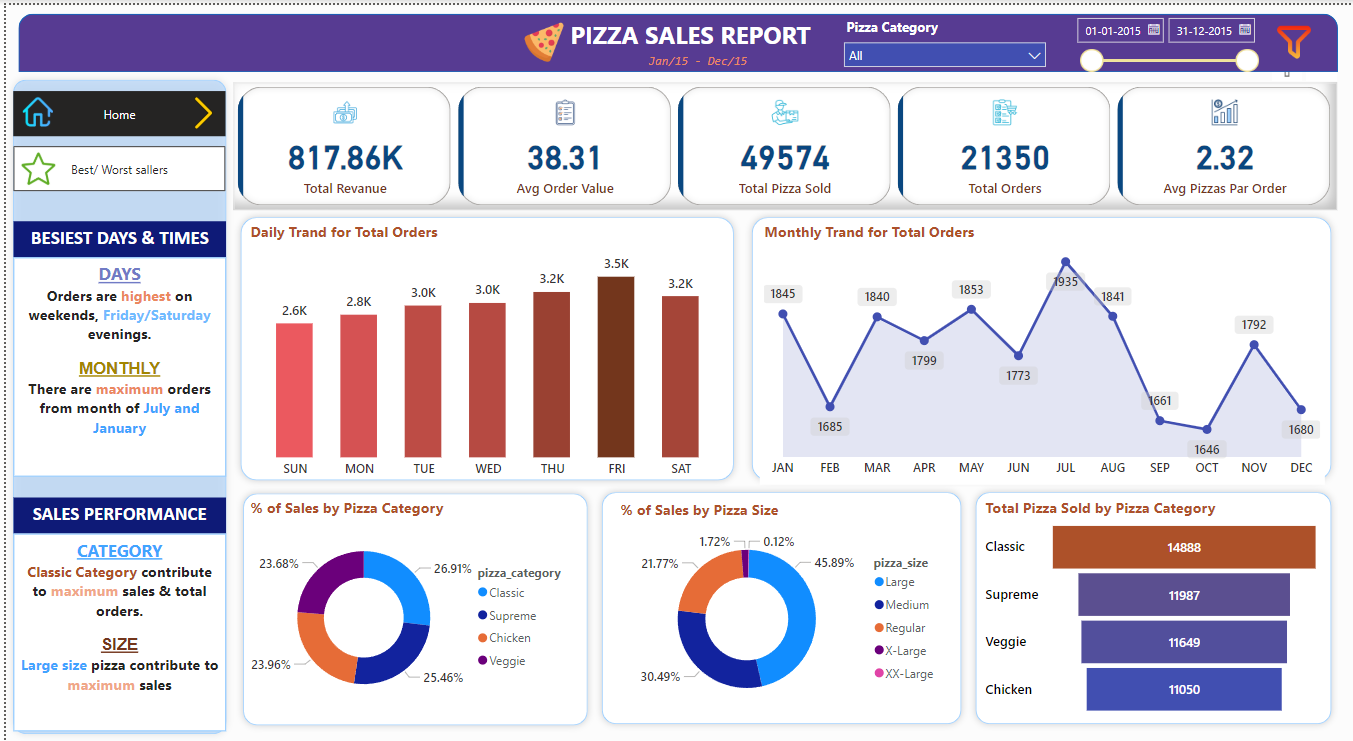

Layout of this report page (visuals, bound fields, positions):
{"tool":"powerbi","page":{"name":"Home","canvas":[1500,820],"ordinal":0},"visuals":[{"type":"shape","box":[0,75.2,253.5,745.1],"z":0},{"type":"cardVisual","fields":{"Data":["public pizzasales.Total Revanue","public pizzasales.Avg Order Value","public pizzasales.Total Pizza Sold","public pizzasales.Total Orders","public pizzasales.Avg Pizzas Par Order"]},"box":[253.5,86.3,1229.7,142.1],"z":1000},{"type":"shape","box":[13.8,10,1470,65],"z":2000},{"type":"textbox","box":[610,9.7,305,55.7],"z":3000},{"type":"textbox","box":[701.9,47.4,137.9,27.9],"z":4000},{"type":"image","box":[559.9,13.9,79.4,55.7],"z":5000},{"type":"shape","box":[253.5,228.4,565.4,309.2],"z":6000},{"type":"columnChart","title":"Daily Trand for Total Orders","fields":{"Category":["public pizzasales.Order Day"],"Y":["public pizzasales.Total Orders"]},"box":[267.4,240.9,540.4,295.2],"z":7000},{"type":"shape","box":[823.1,228.4,661.5,309.2],"z":8000},{"type":"areaChart","title":"Monthly Trand for Total Orders","fields":{"Category":["public pizzasales.Order Month"],"Y":["public pizzasales.Total Orders"]},"box":[839.8,240.9,629.5,293.9],"z":9000},{"type":"shape","box":[256.3,536.2,399.7,274.4],"z":10000},{"type":"shape","box":[655.9,534.8,416.4,274.4],"z":11000},{"type":"shape","box":[1072.4,534.8,412.2,274.4],"z":12000},{"type":"donutChart","title":"% of Sales by Pizza Category","fields":{"Category":["public pizzasales.pizza_category"],"Y":["public pizzasales.Total Revanue"]},"box":[267.4,548.7,371.8,246.5],"z":13000},{"type":"donutChart","title":"% of Sales by Pizza Size","fields":{"Category":["public pizzasales.pizza_size"],"Y":["public pizzasales.Total Revanue"]},"box":[679.6,550.1,371.8,246.5],"z":14000},{"type":"funnel","title":"Total Pizza Sold by Pizza Category","fields":{"Category":["public pizzasales.pizza_category"],"Y":["public pizzasales.Total Pizza Sold"]},"box":[1086.3,548.7,383,247.9],"z":15000},{"type":"textbox","box":[8.4,240.9,236.8,40.4],"z":16000},{"type":"textbox","box":[8.4,281.3,236.8,243.7],"z":17000},{"type":"textbox","box":[8.4,548.7,236.8,40.4],"z":18000},{"type":"textbox","box":[8.4,589.1,236.8,220],"z":19000},{"type":"slicer","fields":{"Values":["public pizzasales.pizza_category"]},"box":[923.3,9.7,245.1,65.5],"z":20000},{"type":"slicer","fields":{"Values":["public pizzasales.order_date"]},"box":[1181,4.2,222.8,76.6],"z":21000},{"type":"pageNavigator","box":[8.4,96.1,236.8,50.1],"z":22000},{"type":"pageNavigator","box":[8.4,157.4,236.8,50.1],"z":22001},{"type":"image","box":[195,97.5,50.1,46],"z":22002},{"type":"image","box":[13.9,97.5,43.2,43.2],"z":22003},{"type":"image","box":[12.5,158.8,47.4,47.4],"z":22004},{"type":"image","box":[1398.2,9.7,73.8,62.7],"z":22005}]}

Visuals, with their boxes in screenshot pixels (x1, y1, x2, y2), scaled from the page's 1500x820 canvas onto the 1353x741 screenshot:
shape: 0, 68, 229, 740
cardVisual - public pizzasales.Total Revanue x public pizzasales.Avg Order Value: 229, 78, 1338, 206
shape: 12, 9, 1338, 68
textbox: 550, 9, 825, 59
textbox: 633, 43, 757, 68
image: 505, 13, 577, 63
shape: 229, 206, 739, 486
"Daily Trand for Total Orders" columnChart: 241, 218, 729, 484
shape: 742, 206, 1339, 486
"Monthly Trand for Total Orders" areaChart: 757, 218, 1325, 483
shape: 231, 485, 592, 733
shape: 592, 483, 967, 731
shape: 967, 483, 1339, 731
"% of Sales by Pizza Category" donutChart: 241, 496, 577, 719
"% of Sales by Pizza Size" donutChart: 613, 497, 948, 720
"Total Pizza Sold by Pizza Category" funnel: 980, 496, 1325, 720
textbox: 8, 218, 221, 254
textbox: 8, 254, 221, 474
textbox: 8, 496, 221, 532
textbox: 8, 532, 221, 731
slicer - public pizzasales.pizza_category: 833, 9, 1054, 68
slicer - public pizzasales.order_date: 1065, 4, 1266, 73
pageNavigator: 8, 87, 221, 132
pageNavigator: 8, 142, 221, 188
image: 176, 88, 221, 130
image: 13, 88, 52, 127
image: 11, 144, 54, 186
image: 1261, 9, 1328, 65
